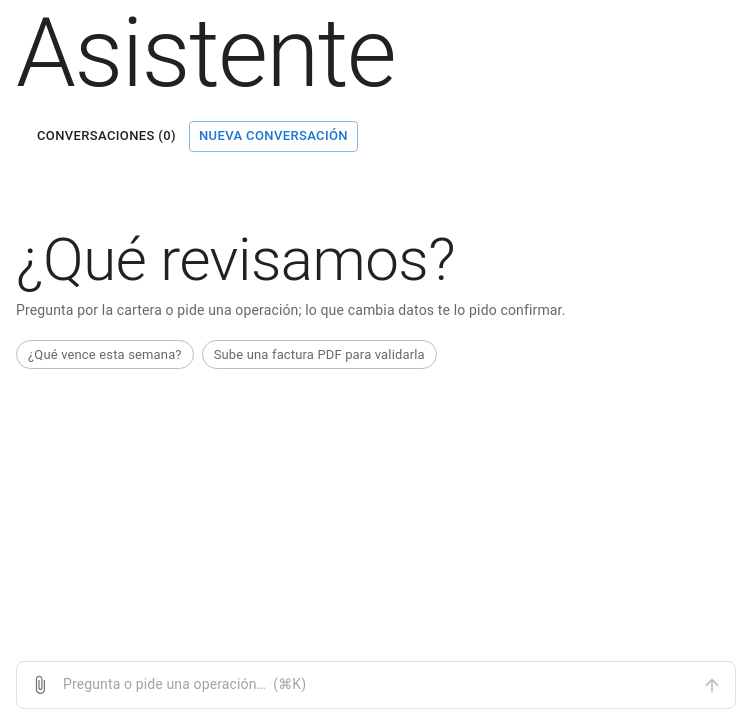
Test: AssistantPage › AC-008-10 muestra el contenido del asistente como texto, sin interpretar HTML
The image size is (753, 726).
Type "Hola" into the text box named "Mensaje" at (376, 685), box [63,674,689,696]
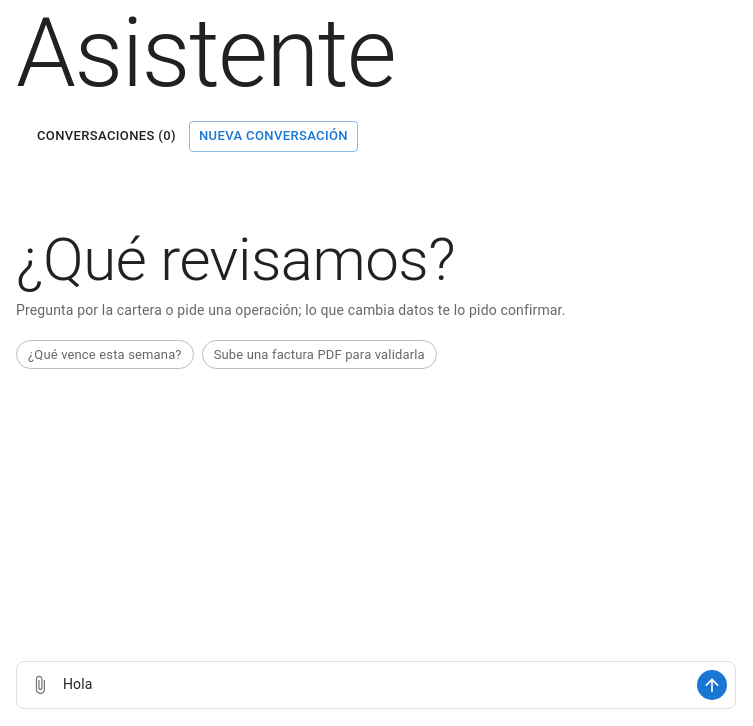
Click the button named "Enviar" at (712, 685), box [697,670,727,700]
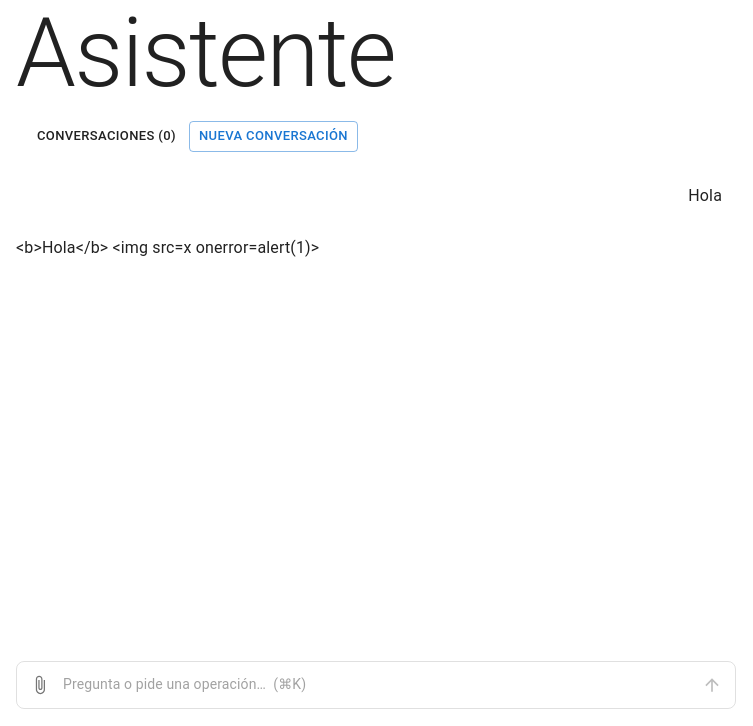
Expected: the text "<b>Hola</b> <img src=x onerror=alert(1)>" is shown, [16,238,319,257]
